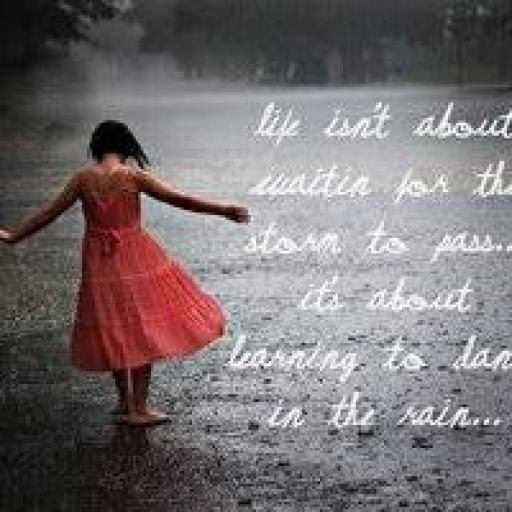dancing: (0, 115, 256, 430)
